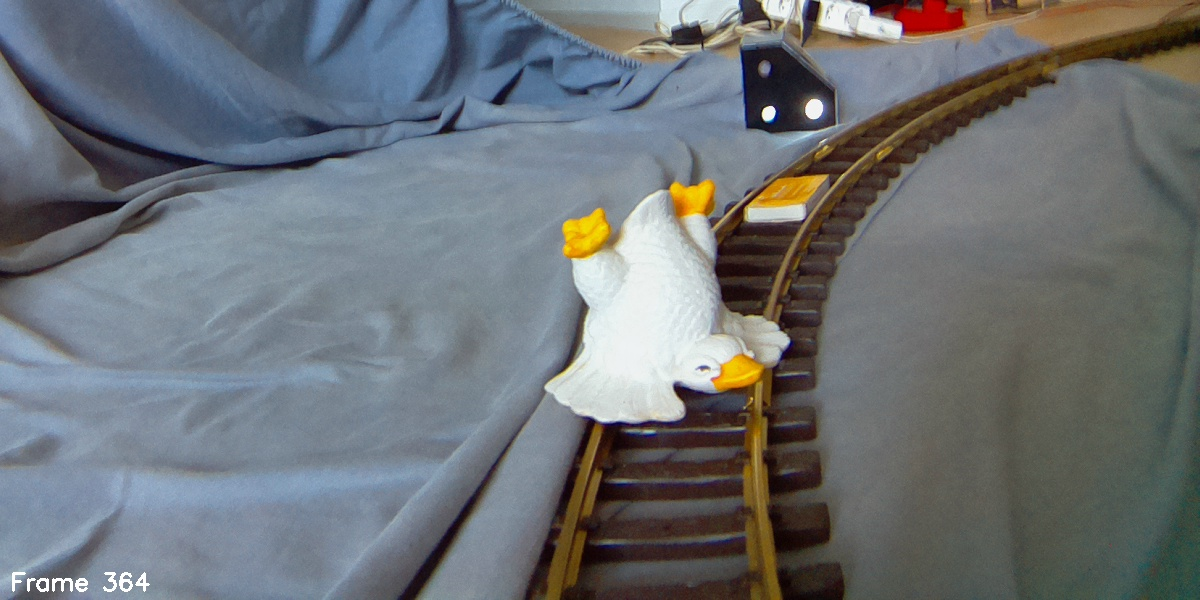Ente: (538, 180, 792, 430)
Halt: (737, 34, 840, 132)
